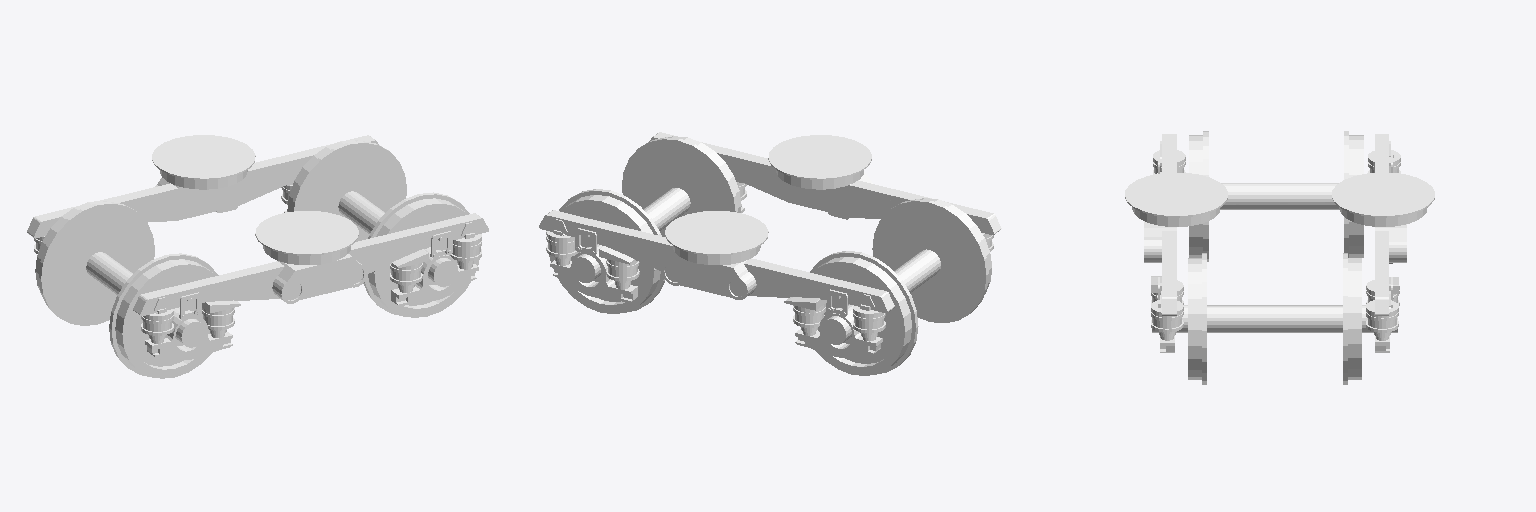
File: Bogie.obj
3 views of the same model, side by side, from view 1: azimuth 30°, elevation 25°; view 2: azimuth 150°, elevation 25°; view 3: azimuth 270°, elevation 25° (orthographic).
Visible parts, largest first — view 1: Object.1, Object.3; view 2: Object.1, Object.3; view 3: Object.1, Object.3.
Boxes of the visible parts, <box> form: Object.1: <box>27,135,488,378</box>; Object.3: <box>152,135,255,189</box>; Object.1: <box>539,132,1001,375</box>; Object.3: <box>665,211,768,264</box>; Object.1: <box>1125,131,1406,384</box>; Object.3: <box>1332,172,1434,226</box>.
Bounding box in the file's own units: 104 × 33.27 × 76.2.